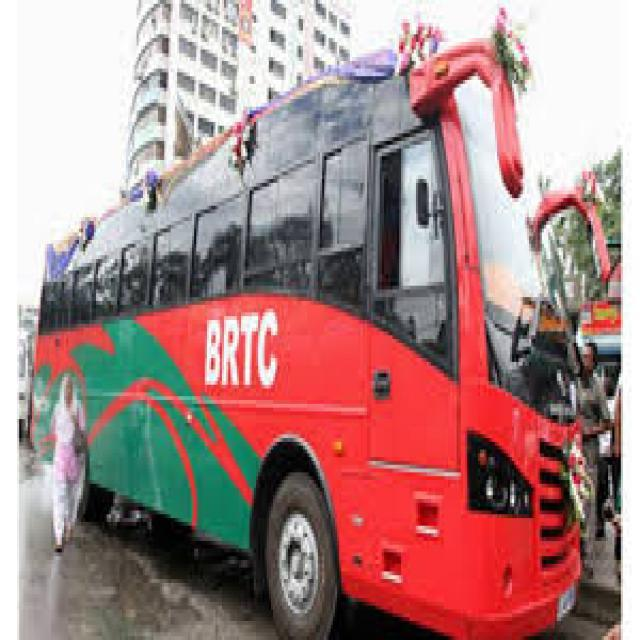bus: (31, 30, 610, 636)
